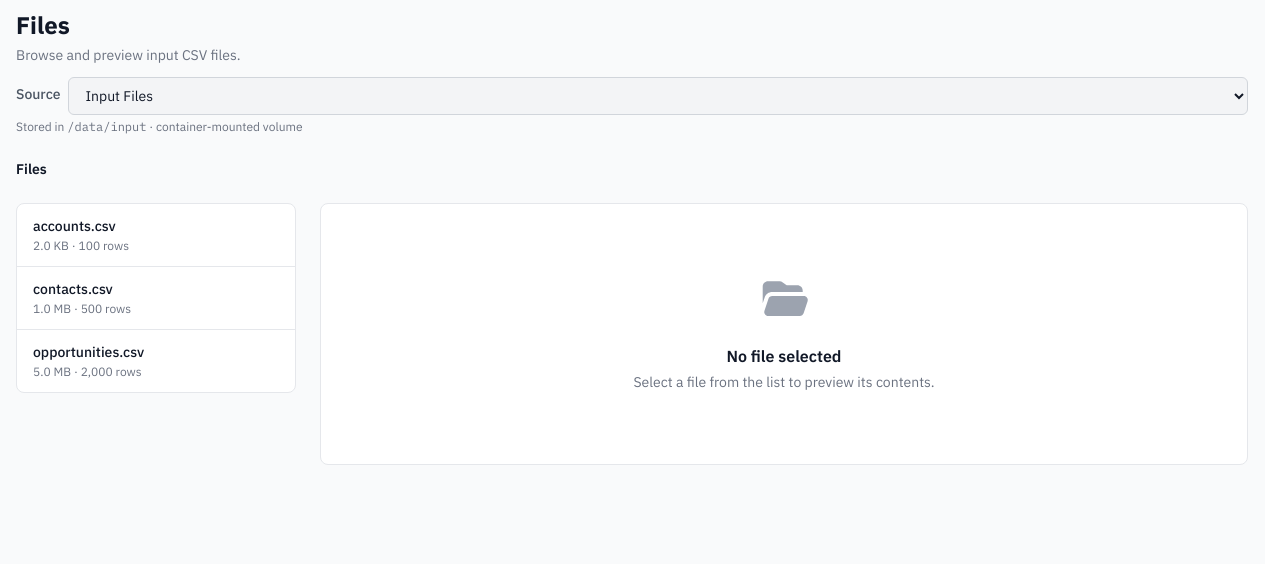
Test case: FilesPage › loads a new preview when switching to a different file
The width and height of the screenshot is (1265, 564).
What coordinates should you click on to do the following:
click the text "accounts.csv"
I would click on:
 (74, 226)
Its box is x1=33 y1=217 x2=116 y2=235.
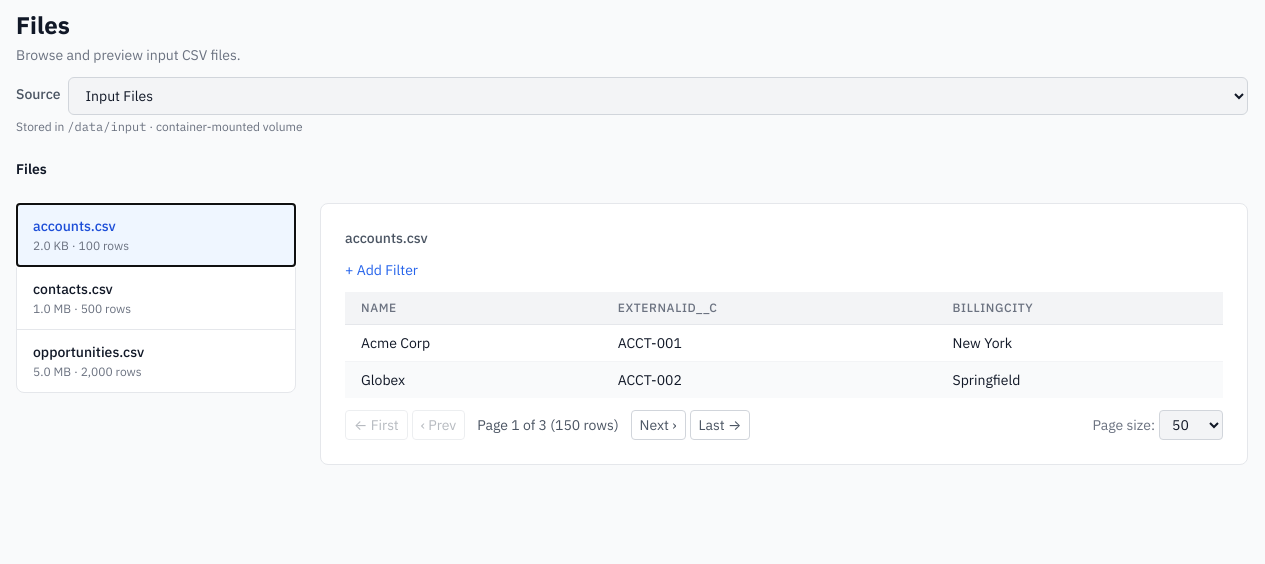
Check: the column heading "Name" is shown, box x1=345 y1=292 x2=602 y2=324
What coordinates should you click on to do the following:
click the button with aria-label "Next page"
I would click on:
 (658, 425)
Its box is x1=631 y1=410 x2=686 y2=440.
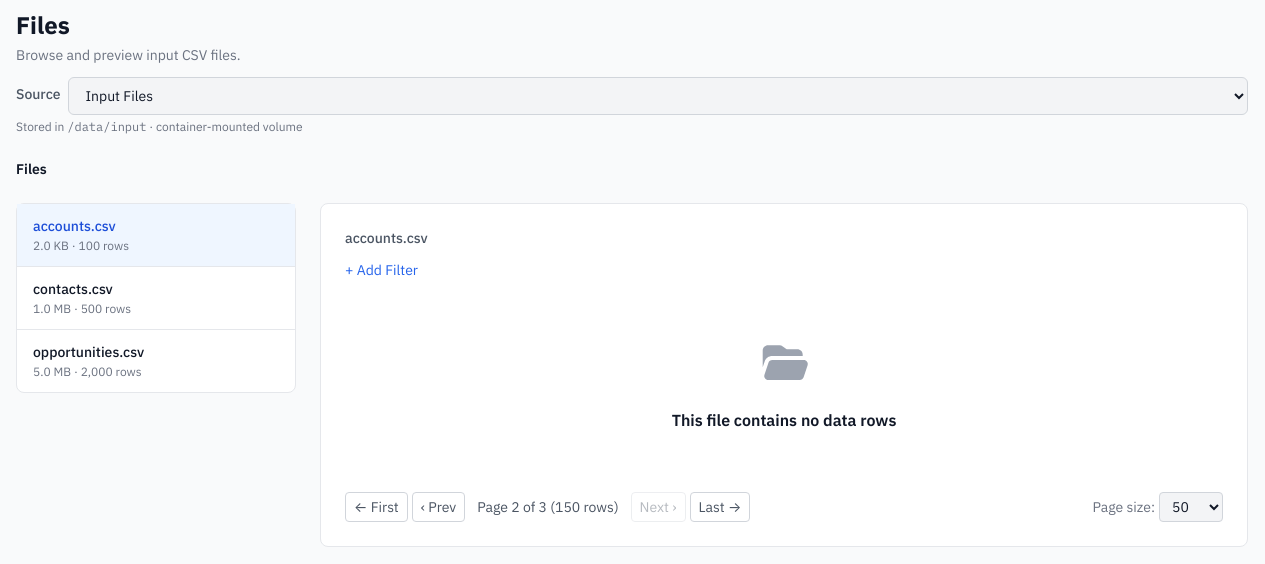
What coordinates should you click on to do the following:
click the text "contacts.csv"
I would click on:
 (73, 289)
Its box is x1=33 y1=280 x2=113 y2=298.
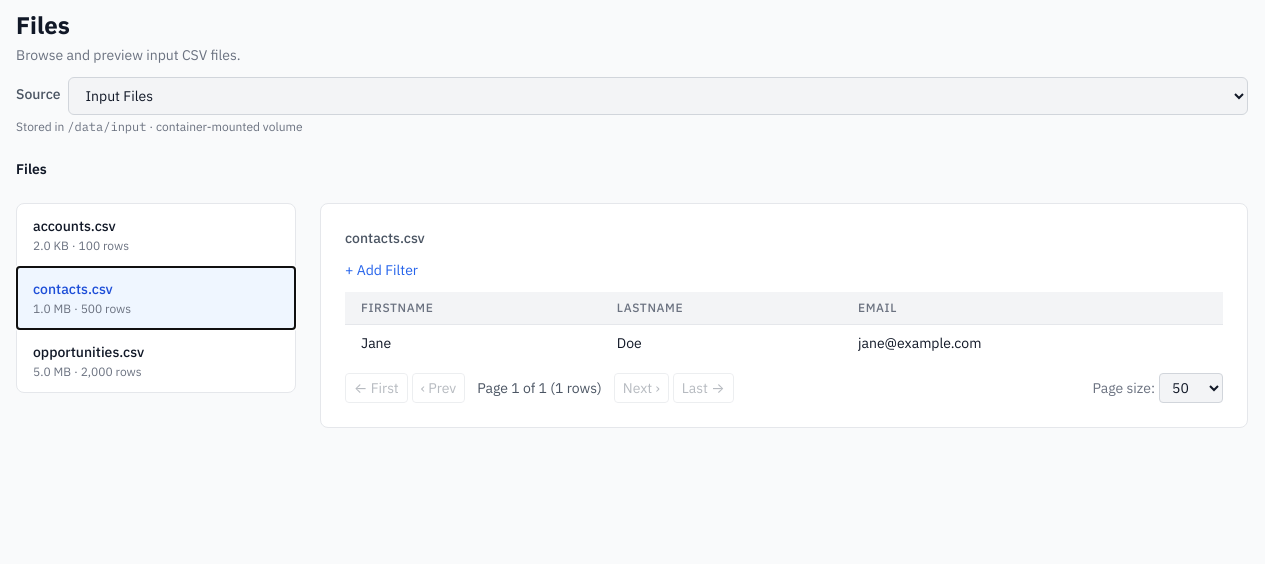
Check: the column heading "FirstName" is shown, box x1=345 y1=292 x2=601 y2=324
Check: the text "jane@example.com" is shown, box x1=842 y1=324 x2=1223 y2=361
